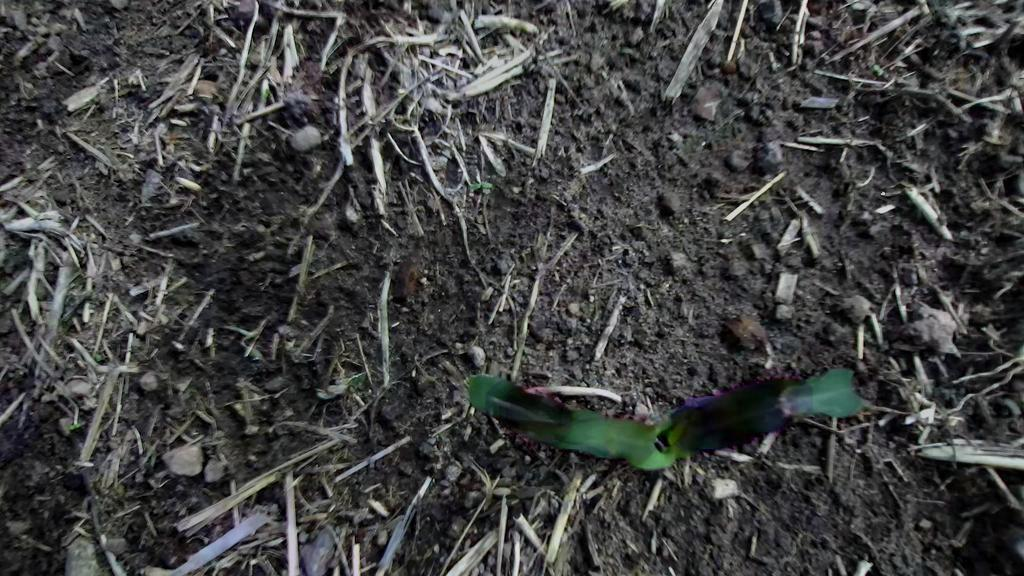BroWeed: (219, 309, 275, 365), (347, 370, 370, 391), (467, 179, 494, 192), (871, 62, 886, 78), (67, 421, 80, 431), (150, 449, 156, 466), (262, 88, 270, 100), (95, 350, 101, 362)
Maize: (469, 350, 875, 481)
